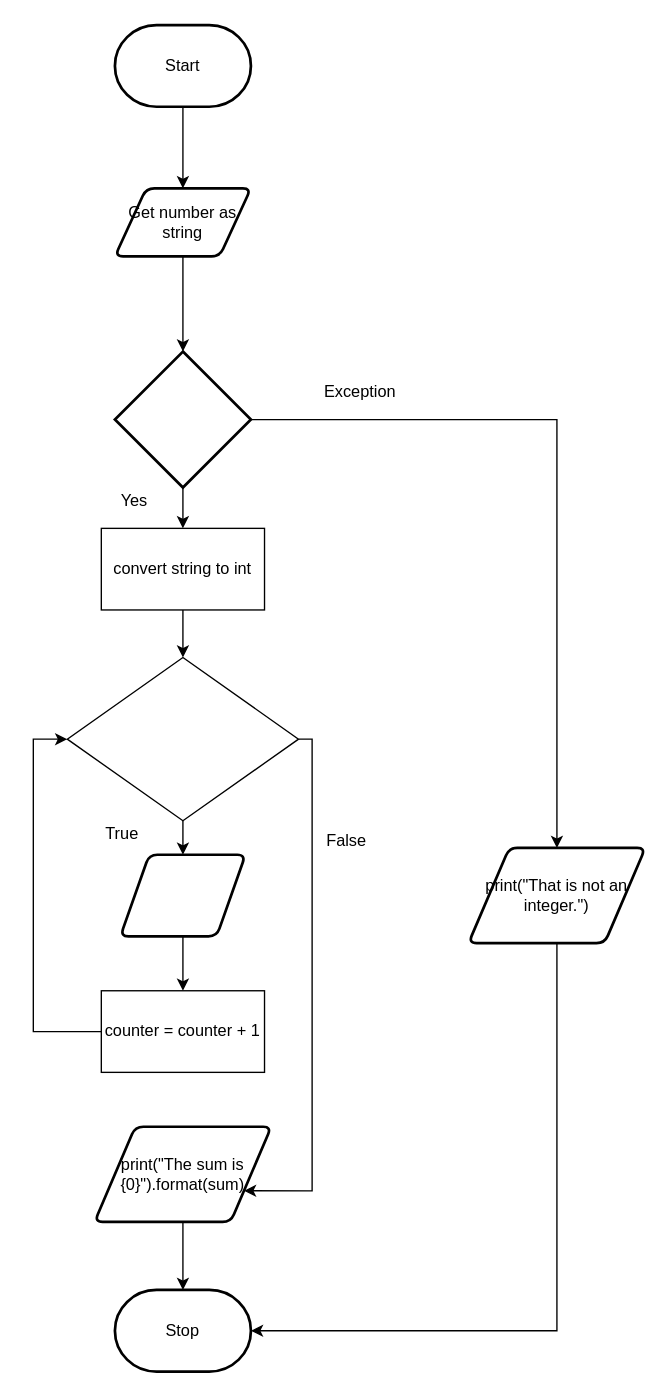
This 670x1395 diagram has some shape labels left out. Each missing label, with the centre of its shape:
"sum = sum + counter" belongs at (x=182, y=895).
"try" belongs at (x=182, y=419).
"While counter <= number" belongs at (x=182, y=738).
